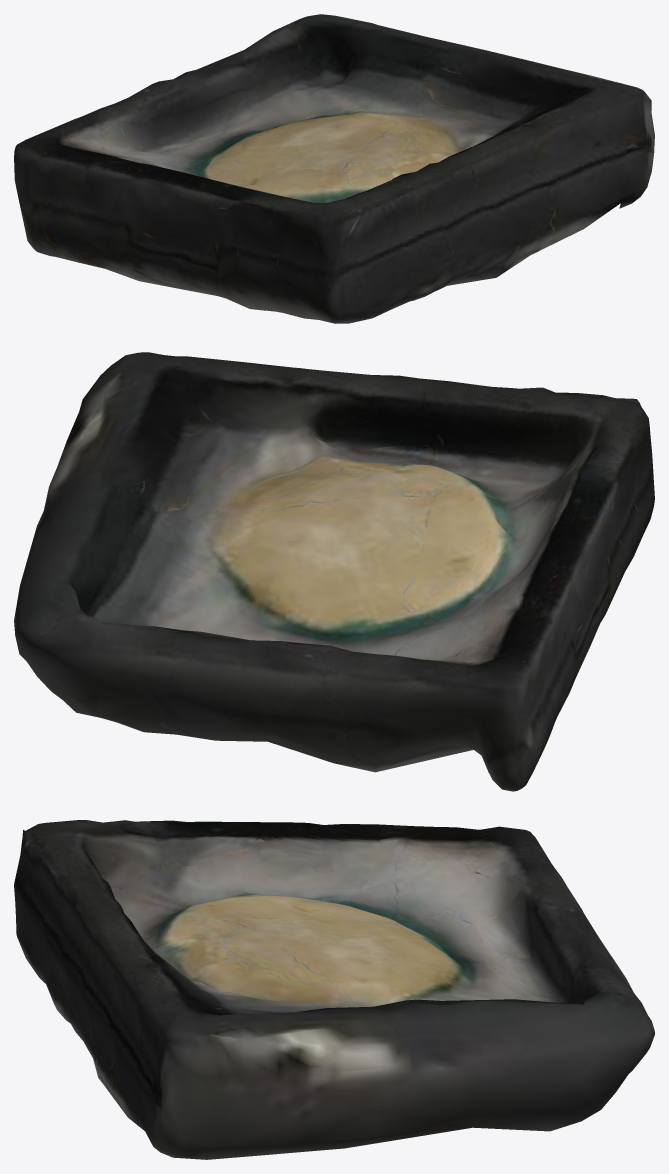
Rendered from hall.glb.
3 views of the same model, one above another, from view 1: azimuth 30°, elevation 25°; view 2: azimuth 150°, elevation 25°; view 3: azimuth 270°, elevation 25° (orthographic). The views are drawn at different scales.
Size of the model in its own units: 0.8905 by 0.2879 by 0.86.
Materials: 1 (1 with a texture image).
